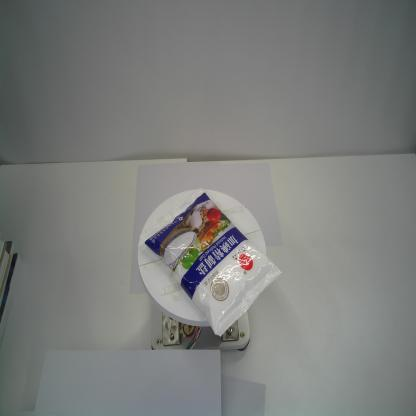Seasoner: (139, 186, 281, 336)
